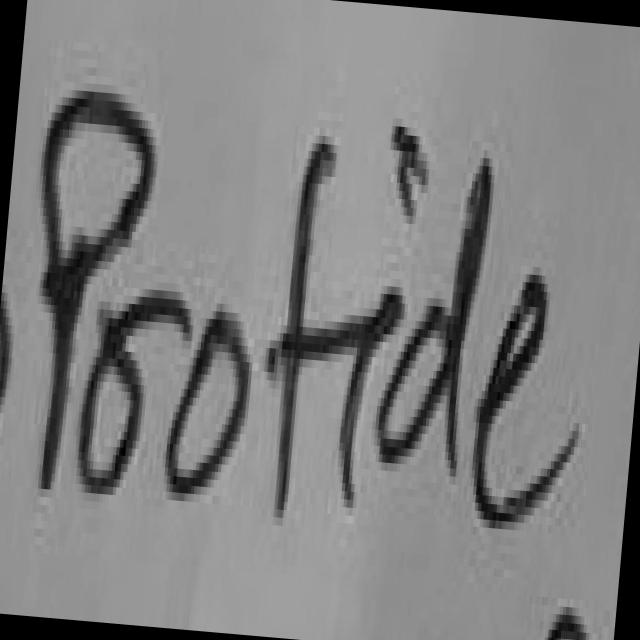P: (41, 93, 154, 485)
d: (379, 158, 494, 476)
e: (475, 274, 581, 528)
i: (341, 294, 404, 507), (394, 126, 428, 215)
o: (167, 312, 251, 492)
r: (79, 297, 190, 492)
t: (268, 143, 338, 513)
